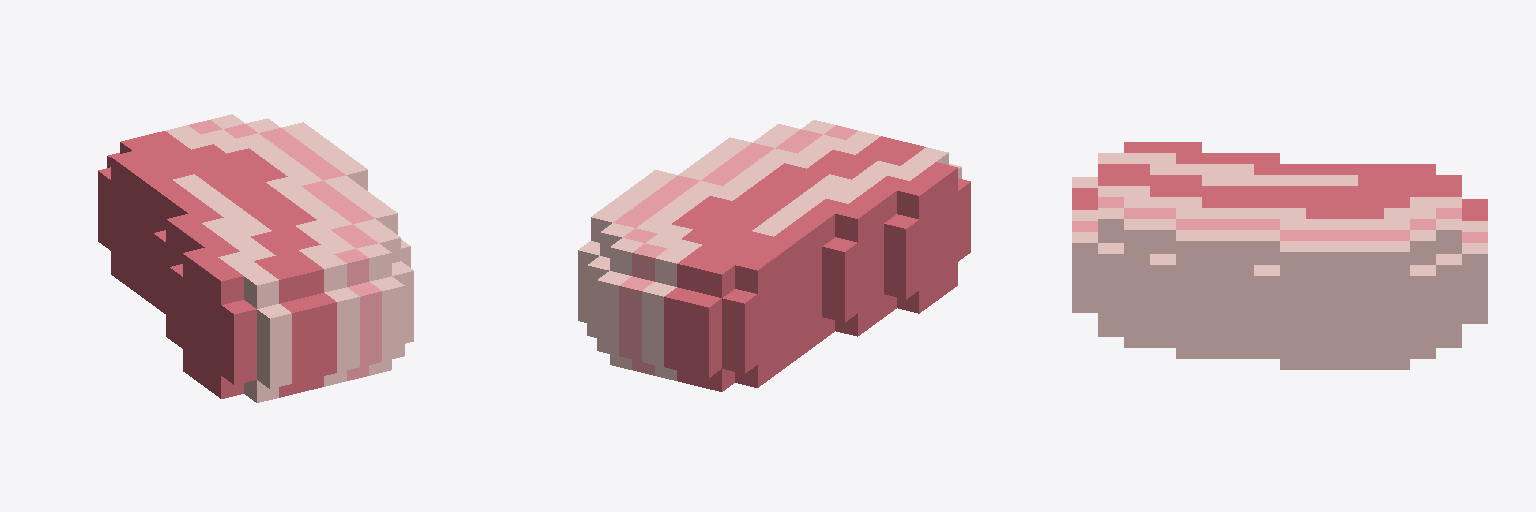
3 views of the same model, side by side, from view 1: azimuth 30°, elevation 25°; view 2: azimuth 150°, elevation 25°; view 3: azimuth 270°, elevation 25° (orthographic).
Visible parts, largest first — view 1: object 1; view 2: object 1; view 3: object 1.
Boxes of the visible parts, <box> form: object 1: <box>98,114,413,402</box>; object 1: <box>578,120,970,391</box>; object 1: <box>1072,142,1487,369</box>.
Bounding box in the file's own units: 1 × 0.5 × 1.6.
1 materials, 1 textured.